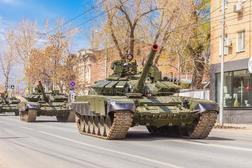t72: (76, 44, 220, 141)
